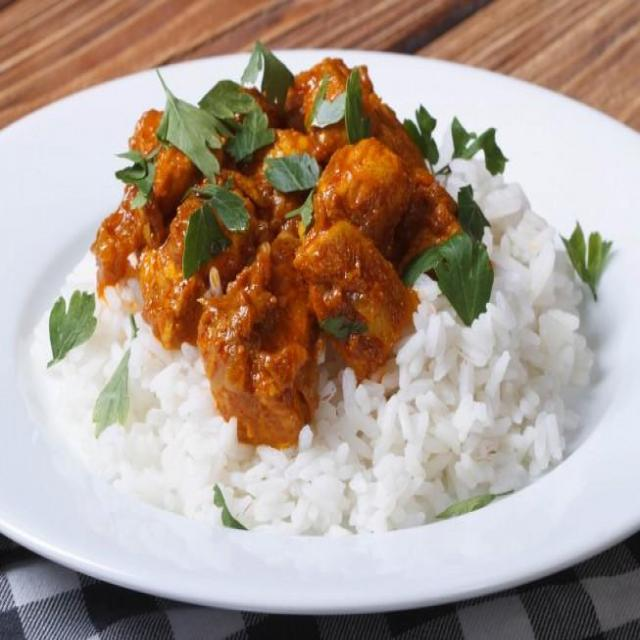chicken: (85, 46, 420, 412)
rice: (27, 176, 612, 539)
